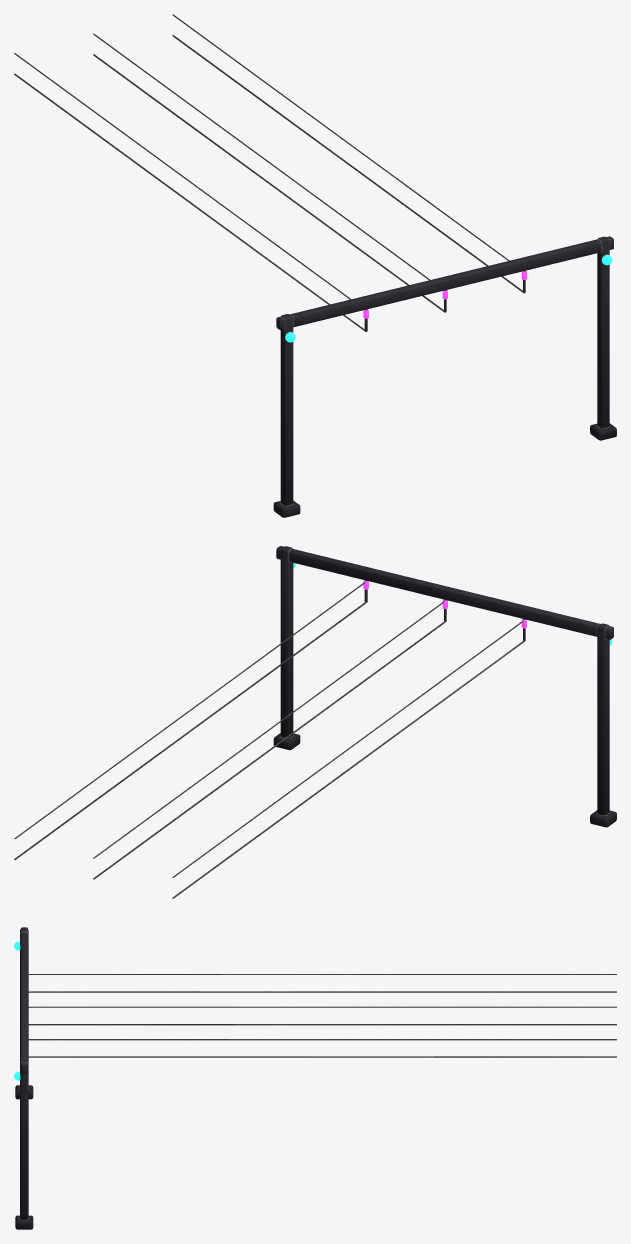
Rendered from rn_catenary_frame.glb.
The picture shows the model from 3 angles, top to bottom: view 1: azimuth 30°, elevation 25°; view 2: azimuth 150°, elevation 25°; view 3: azimuth 270°, elevation 25°; orthographic projection. The views are drawn at different scales.
Visible parts, largest first — view 1: rn_catenary_frame; view 2: rn_catenary_frame; view 3: rn_catenary_frame.
Part boxes in pixels (x1=…): rn_catenary_frame: x1=14, y1=14, x2=616, y2=517; rn_catenary_frame: x1=14, y1=546, x2=616, y2=898; rn_catenary_frame: x1=14, y1=927, x2=616, y2=1229.
Size of the model in its own units: 11 by 6.2 by 20.35.
Materials: 4 (4 with a texture image).
